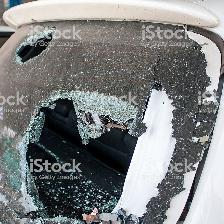broken_glass: (33, 89, 87, 122)
